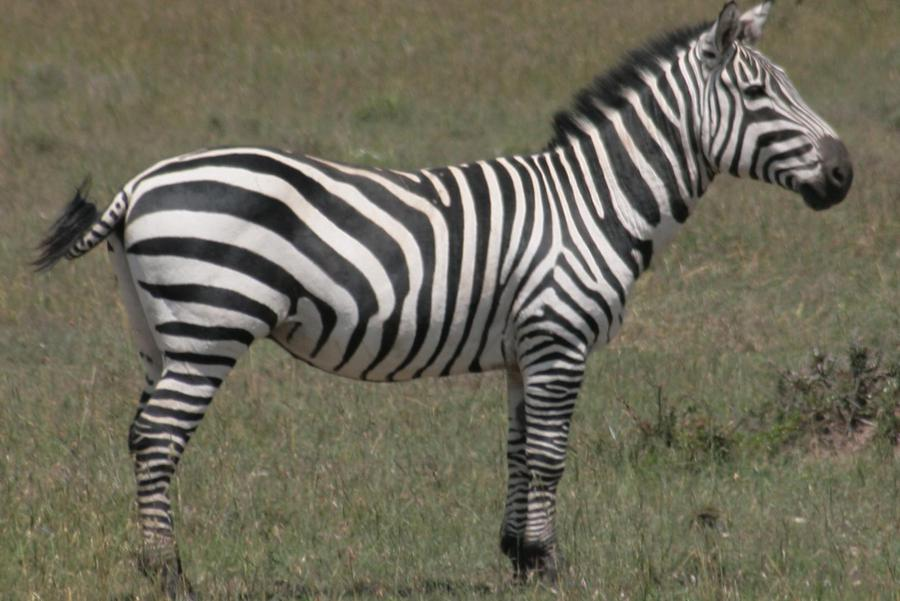zebra_plains: (121, 108, 644, 409)
